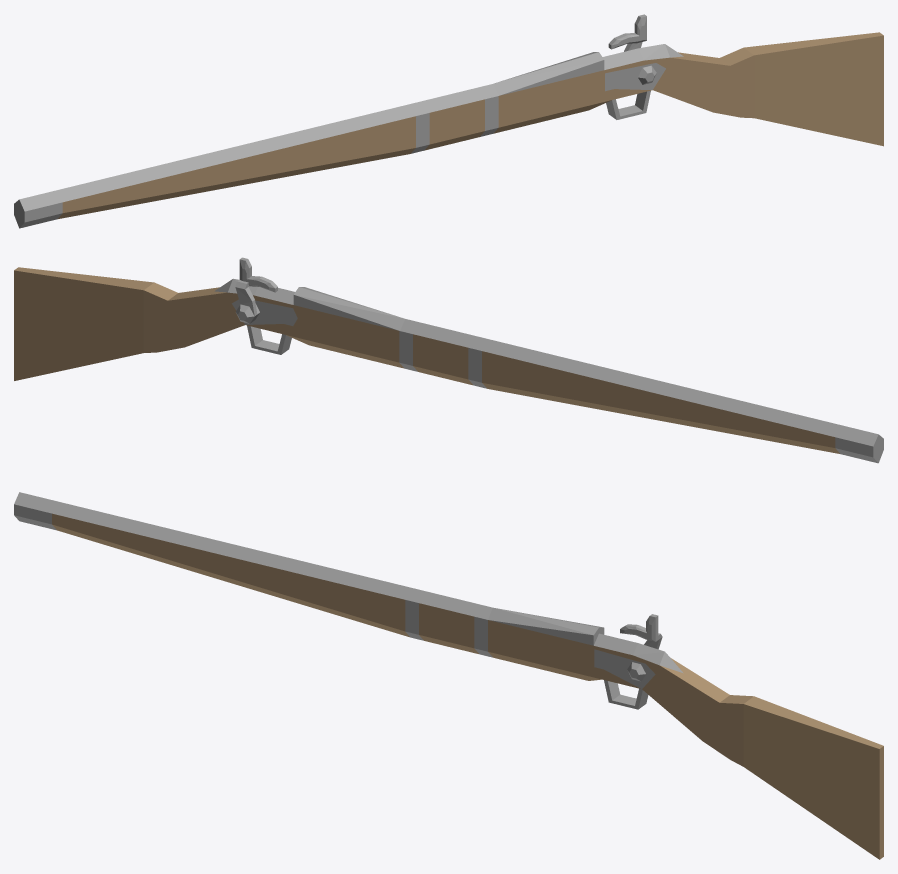
The model's file is Musket.fbx.
The picture shows the model from 3 angles, top to bottom: view 1: azimuth 30°, elevation 25°; view 2: azimuth 150°, elevation 25°; view 3: azimuth 330°, elevation 25°; orthographic projection.
Parts seen in each view (by area): view 1: Musket; view 2: Musket; view 3: Musket.
Boxes of the visible parts, box(x1,y1,x2,y2) form: Musket: box(14, 14, 883, 228); Musket: box(14, 257, 883, 463); Musket: box(14, 492, 883, 859).
Bounding box in the file's own units: 0.9081 × 0.1827 × 0.0394.
